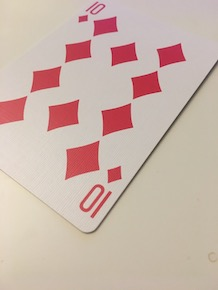TenOfDiamonds: (1, 1, 218, 235)
